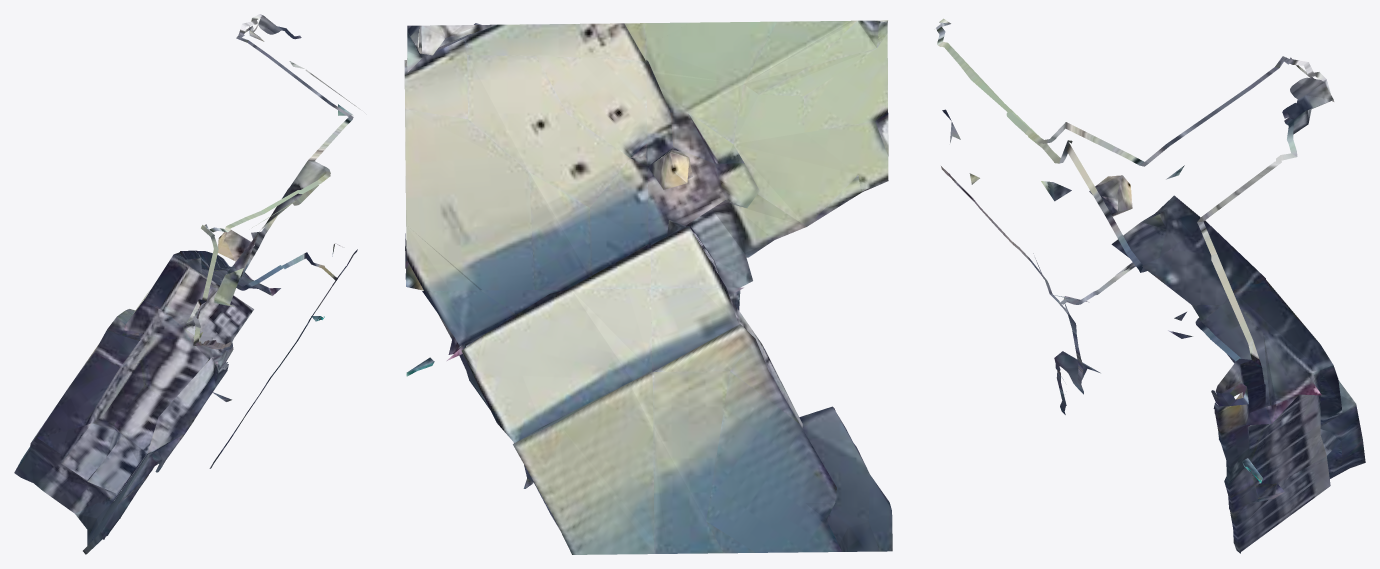
3 views of the same model, side by side, from view 1: azimuth 30°, elevation 25°; view 2: azimuth 150°, elevation 25°; view 3: azimuth 270°, elevation 25° (orthographic). The views are drawn at different scales.
Size of the model in its own units: 37.53 by 42.59 by 32.38.
Materials: 1 (1 with a texture image).
